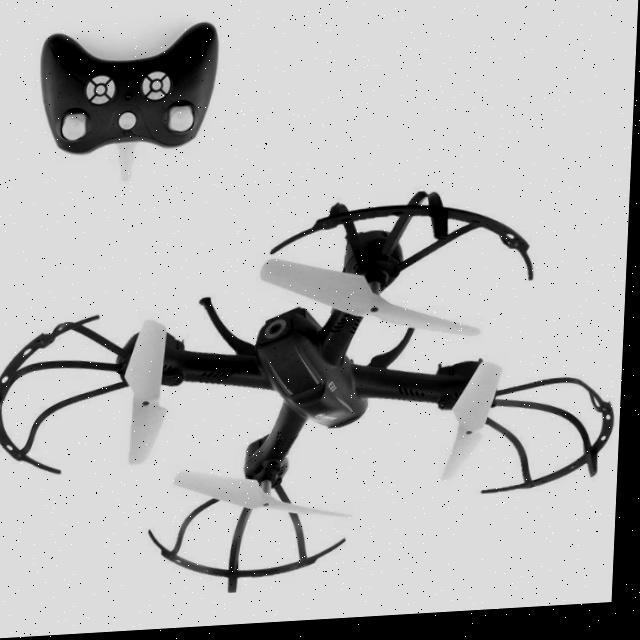drone: (0, 179, 633, 628)
